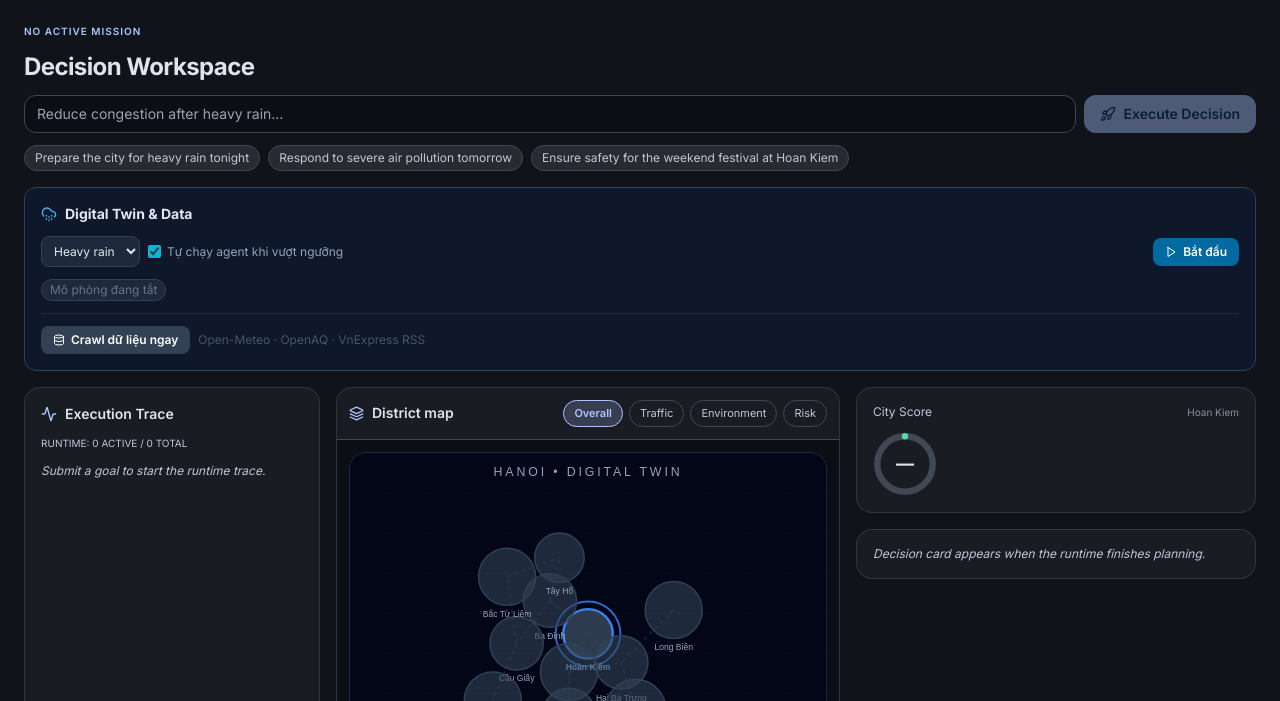
Test: DecisionWorkspacePage › shows the real district name and risk level in the mission header once a run is active
The width and height of the screenshot is (1280, 701).
In the field with placeholder "Reduce congestion after heavy rain…": x=550, y=114 [24,95,1076,133], type "Reduce congestion after rain"
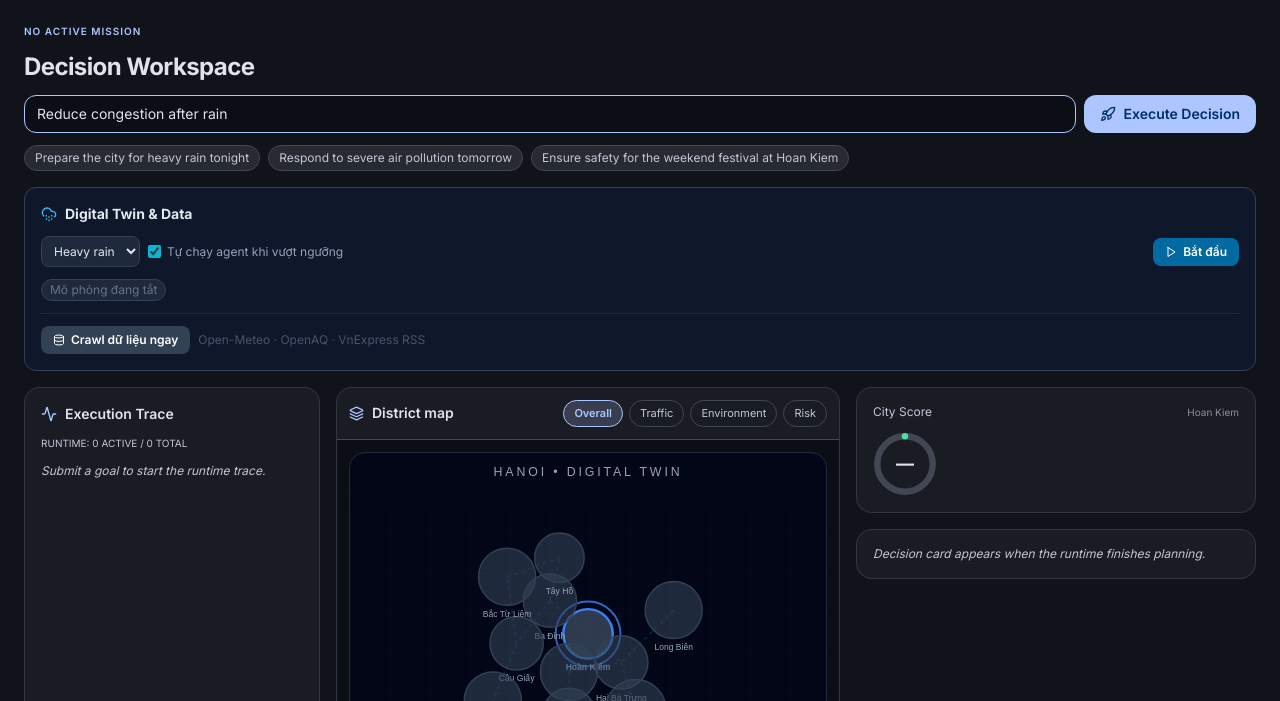
Click the button "Execute Decision": x=1170, y=114 [1084,95,1256,133]
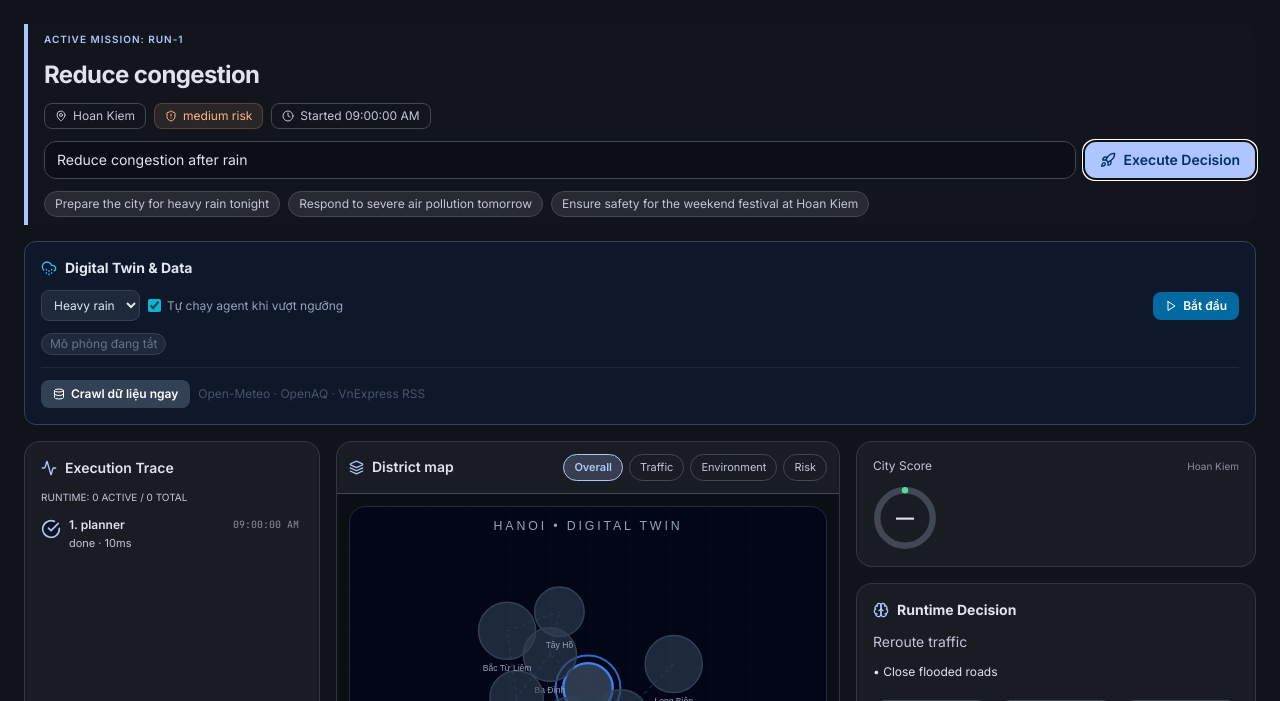
expect the text "Hoan Kiem" is shown: met, box [44,103,146,129]
expect the text "medium risk" is shown: met, box [154,103,263,129]
